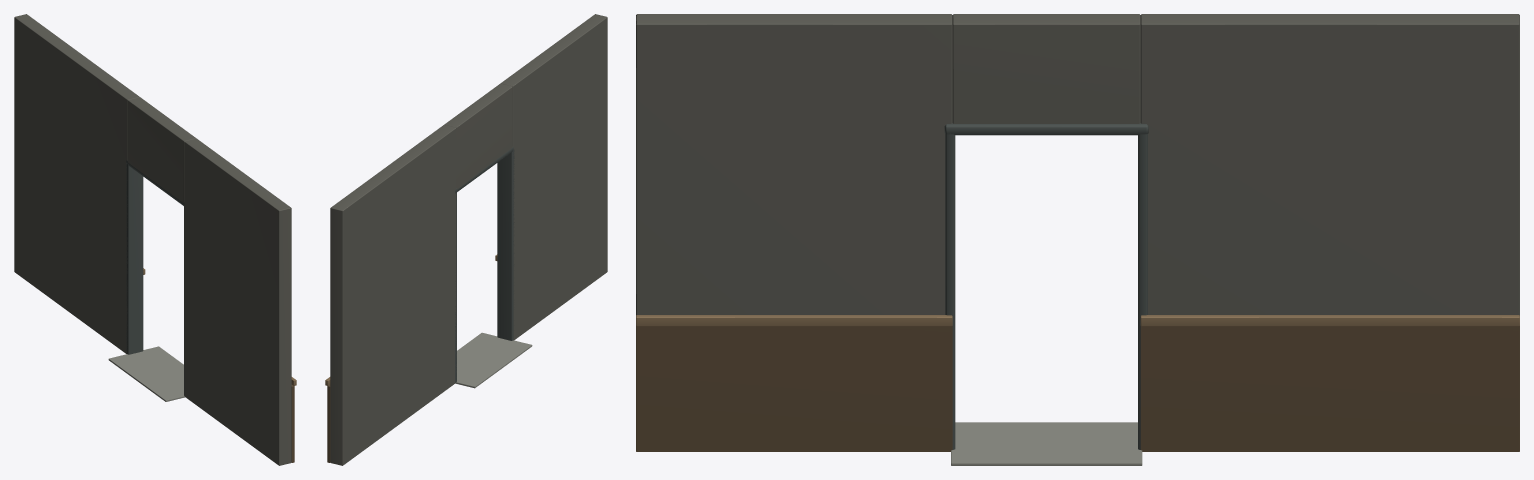
The model's file is BlackMarket_RightPartition62.fbx.
3 views of the same model, side by side, from view 1: azimuth 30°, elevation 25°; view 2: azimuth 150°, elevation 25°; view 3: azimuth 270°, elevation 25° (orthographic). The views are drawn at different scales.
Parts seen in each view (by area): view 1: BlackMarket_RightPartition62; view 2: BlackMarket_RightPartition62; view 3: BlackMarket_RightPartition62.
Part boxes in pixels (box(x1,y1,x2,y2)): BlackMarket_RightPartition62: box(14, 14, 296, 465); BlackMarket_RightPartition62: box(325, 14, 607, 465); BlackMarket_RightPartition62: box(636, 14, 1519, 465).
Size of the model in its own units: 62 by 301 by 564.
